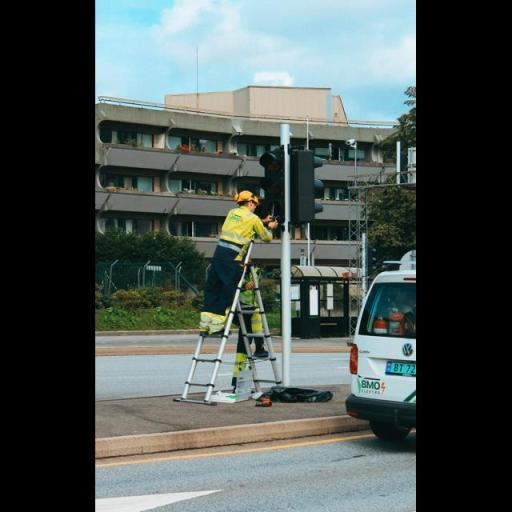Person: (187, 163, 273, 383)
helmet: (229, 186, 263, 208)
